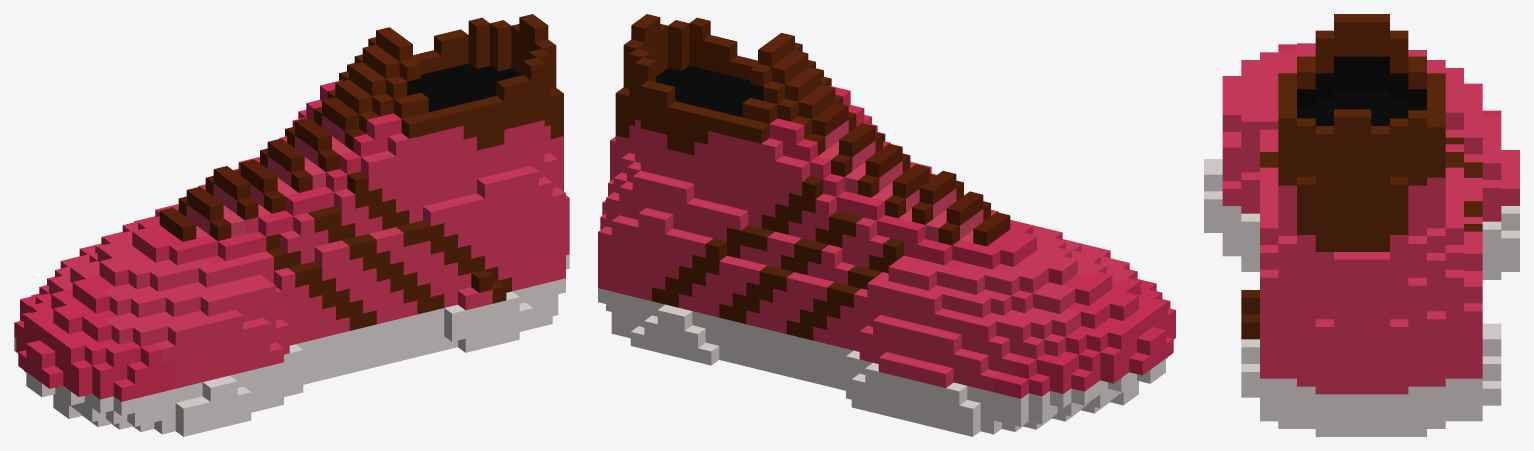
File: Salmon.fbx
3 renders of one model, left to right at view 1: azimuth 30°, elevation 25°; view 2: azimuth 150°, elevation 25°; view 3: azimuth 270°, elevation 25°, orthographic. The views are drawn at different scales.
Visible parts, largest first — view 1: Untitled; view 2: Untitled; view 3: Untitled.
Boxes of the visible parts, box(x1,y1,x2,y2) form: Untitled: box(14, 14, 569, 436); Untitled: box(598, 14, 1175, 436); Untitled: box(1204, 14, 1519, 436).
Bounding box in the file's own units: 390 × 200 × 170.
